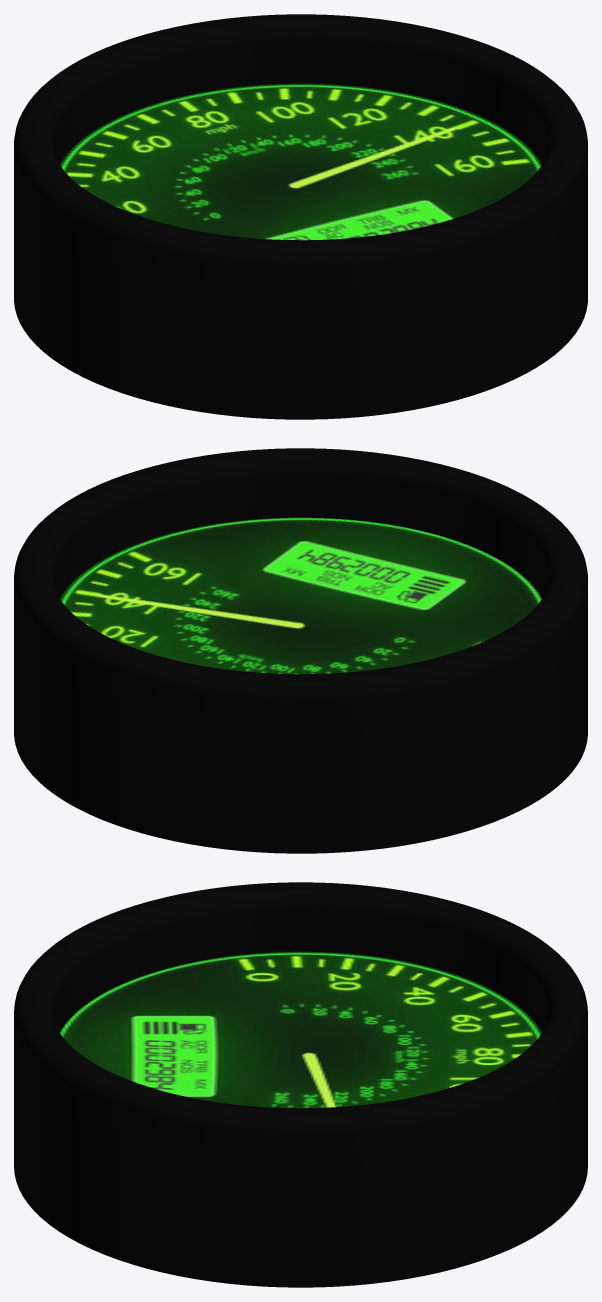
The model's file is speedometer1.glb.
The picture shows the model from 3 angles, top to bottom: view 1: azimuth 30°, elevation 25°; view 2: azimuth 150°, elevation 25°; view 3: azimuth 270°, elevation 25°; orthographic projection.
Parts seen in each view (by area): view 1: pCylinder4_phong11_0.001, pCylinder4_phong14_0.001; view 2: pCylinder4_phong11_0.001, pCylinder4_phong14_0.001; view 3: pCylinder4_phong11_0.001, pCylinder4_phong14_0.001.
Part boxes in pixels (x1,y1,x2,y2): pCylinder4_phong11_0.001: [14, 14, 587, 419]; pCylinder4_phong14_0.001: [60, 83, 541, 240]; pCylinder4_phong11_0.001: [14, 448, 587, 853]; pCylinder4_phong14_0.001: [60, 517, 541, 674]; pCylinder4_phong11_0.001: [14, 882, 587, 1287]; pCylinder4_phong14_0.001: [60, 951, 541, 1108].
Size of the model in its own units: 0.0482 by 0.0156 by 0.0482.
2 materials, 1 textured.
